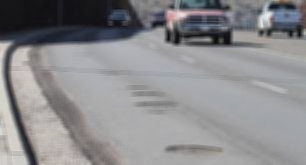pothole: (163, 143, 222, 154), (134, 102, 179, 108), (125, 92, 166, 95), (124, 84, 147, 87)
